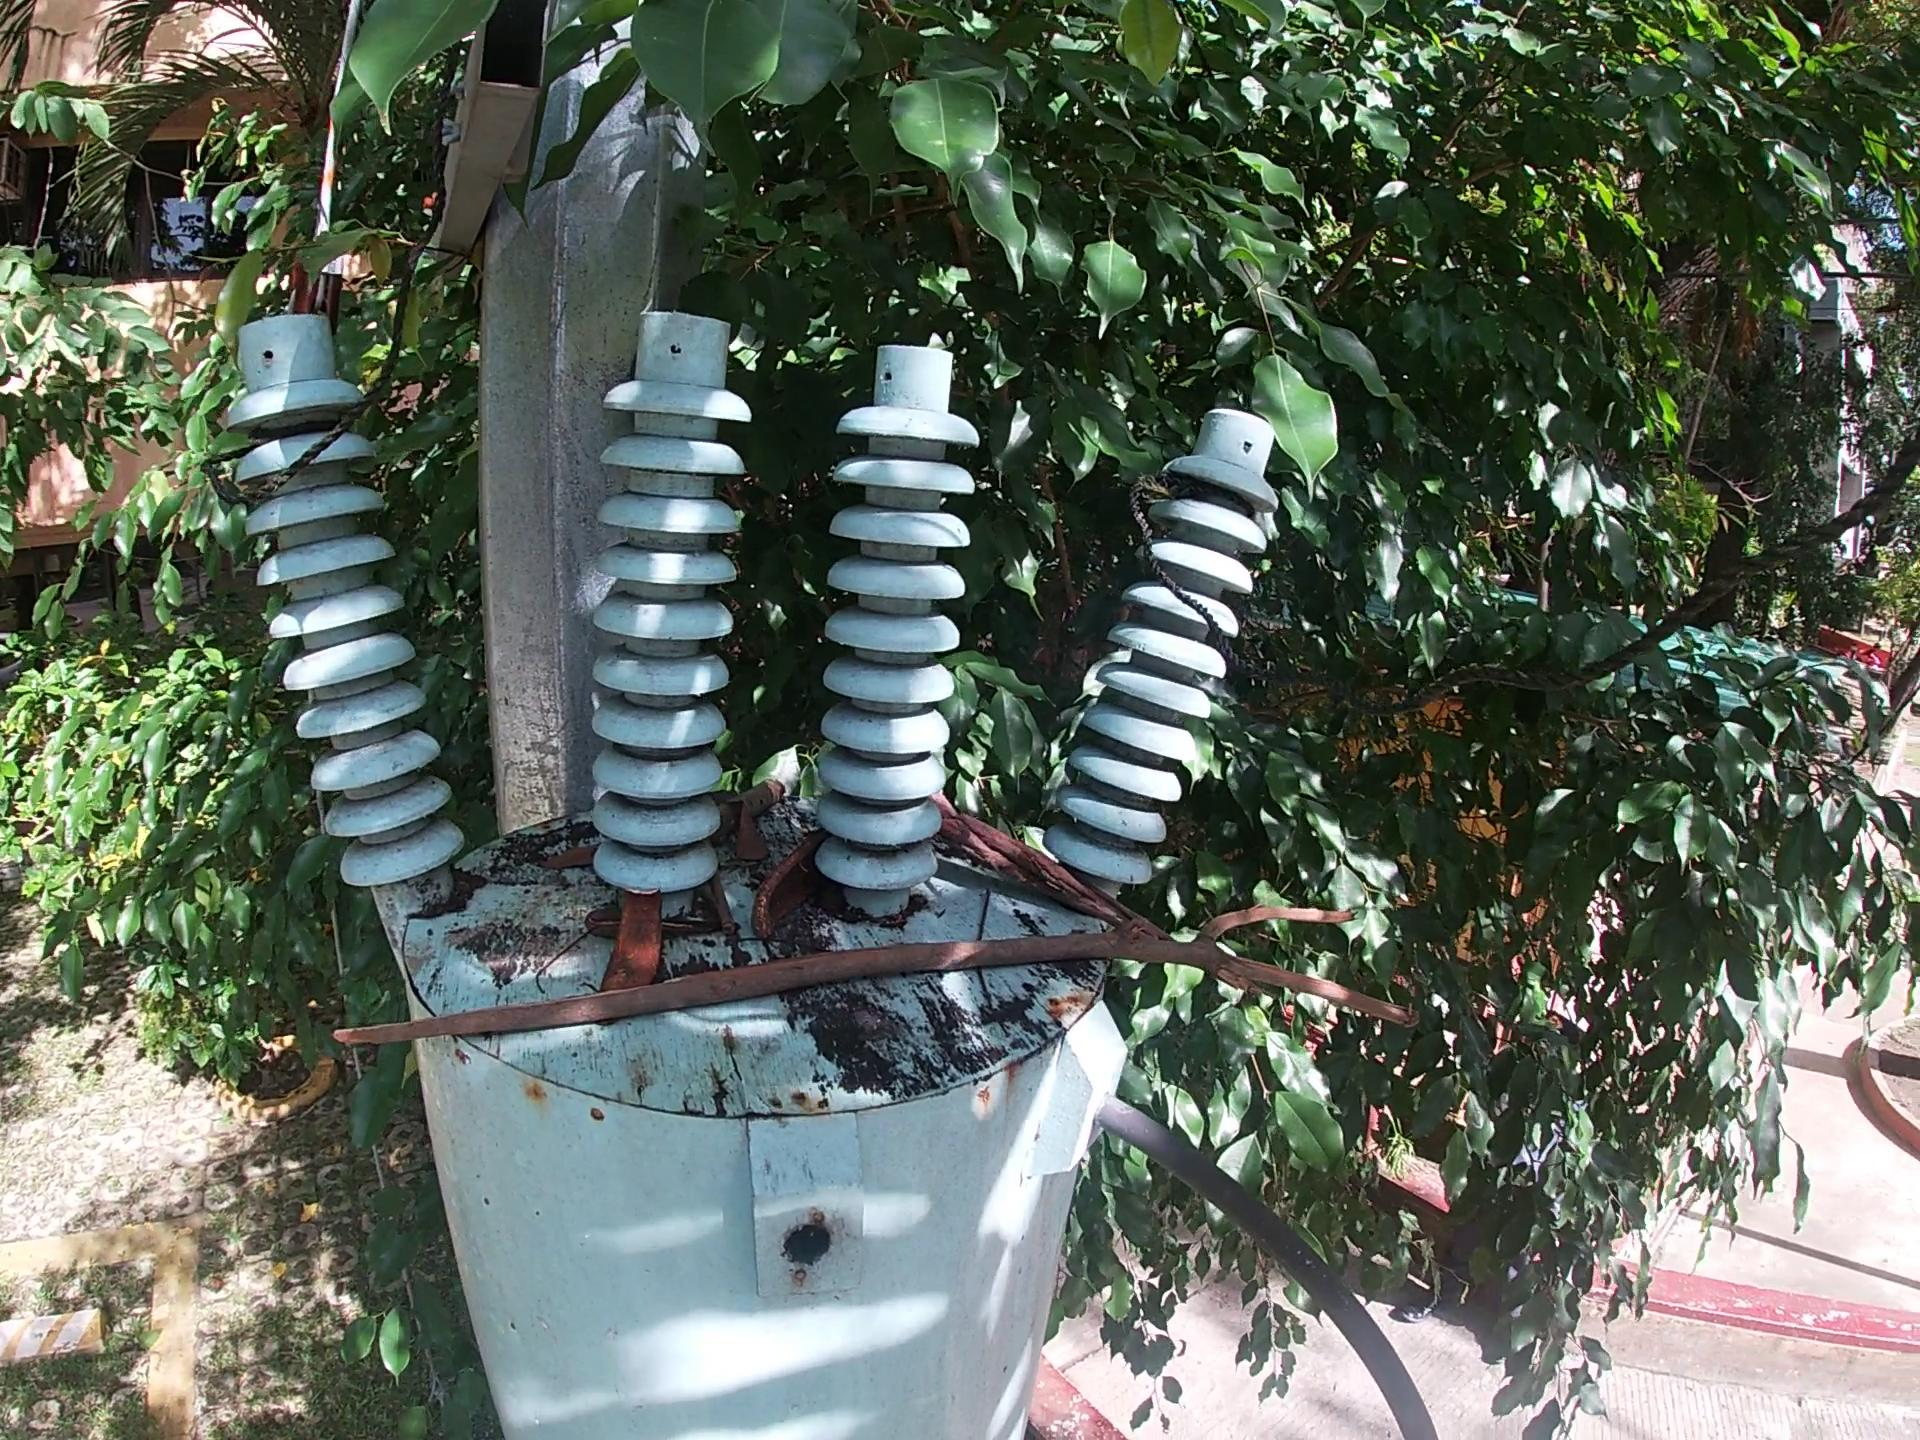leaf: (738, 808, 773, 861), (534, 846, 596, 874)
tree branch: (301, 892, 1465, 1044), (928, 793, 1157, 923), (509, 921, 599, 1004), (717, 776, 785, 826), (966, 876, 1014, 939), (720, 873, 742, 945), (659, 918, 726, 941), (980, 965, 1002, 1026), (584, 909, 612, 945)
